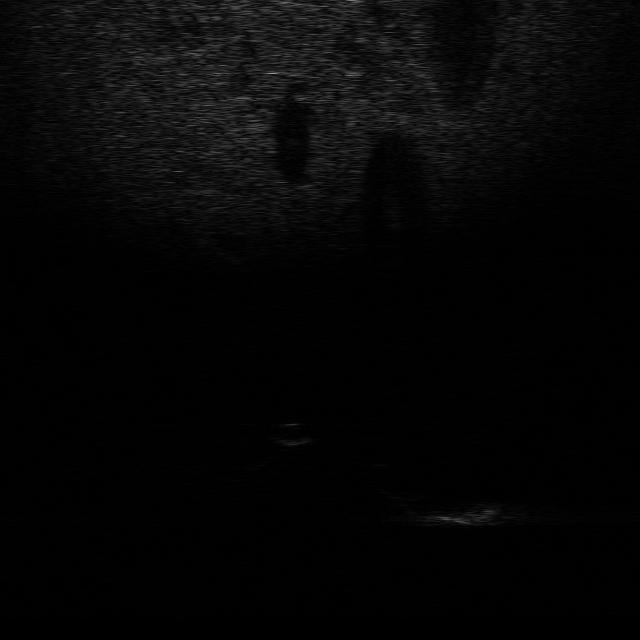ball: (269, 417, 319, 448)
metal bucket: (415, 492, 510, 528)
tyre: (364, 461, 438, 502)
